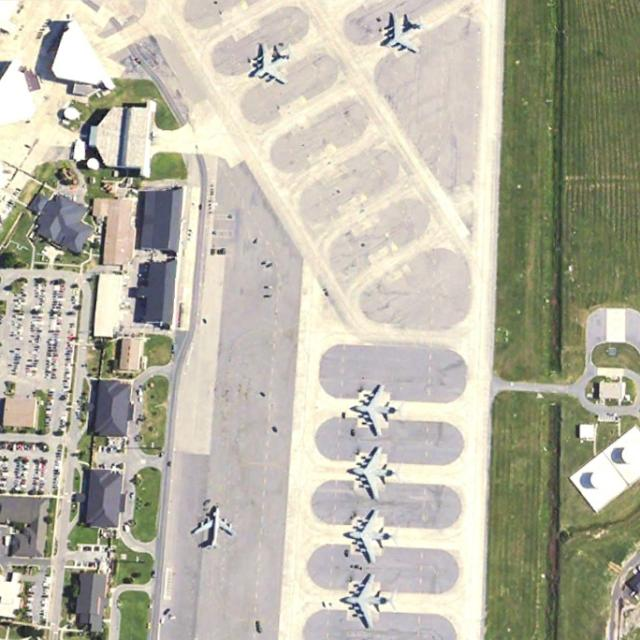fighter jet: (342, 578, 395, 630), (378, 7, 428, 61), (344, 511, 390, 563), (352, 383, 396, 434), (350, 449, 398, 494), (248, 42, 292, 91), (193, 503, 233, 546)
